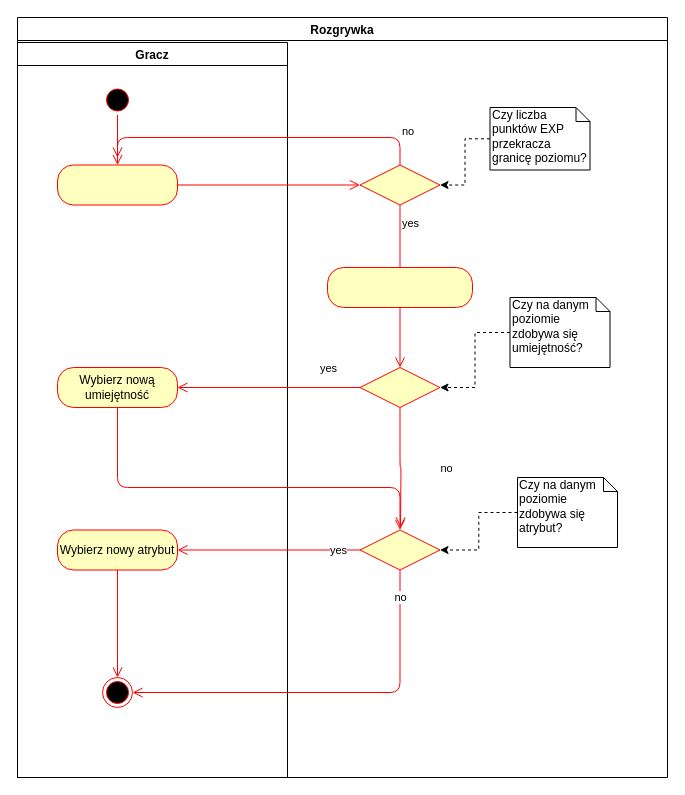
Some shapes in this 685 by 795 pixel diagram are drawn without their labels. Each missing label, with the box of its shape:
Zbieraj doświadczenie: (56, 164, 178, 205)
Zwiększ poziom gracza: (326, 266, 472, 308)
